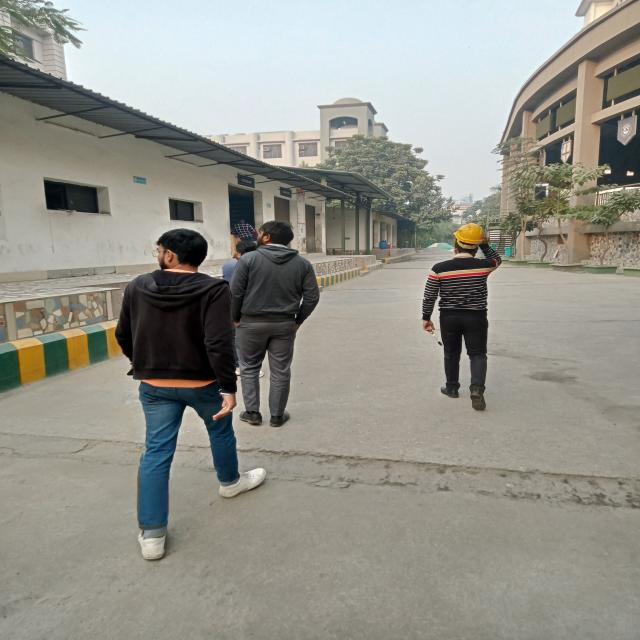no jacket: (419, 224, 507, 410)
unsafe: (114, 228, 267, 562), (226, 220, 322, 425)
